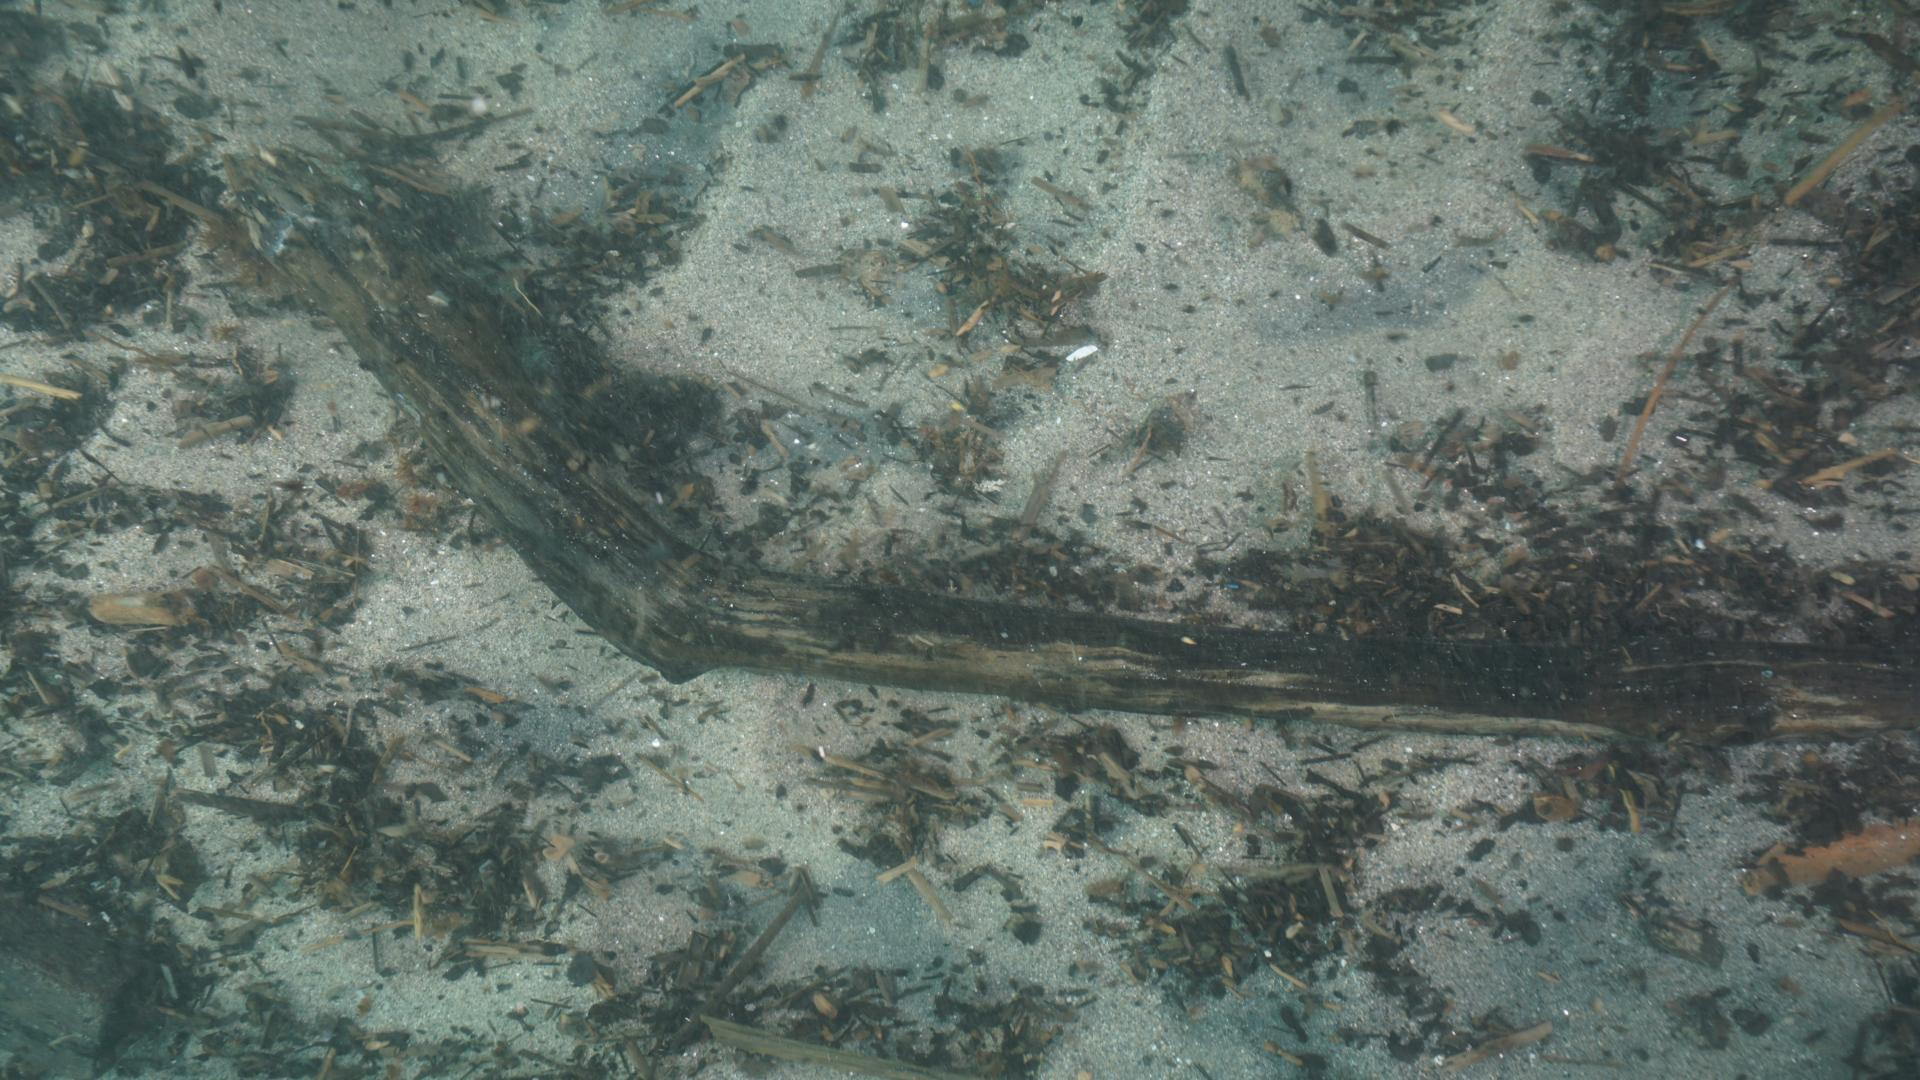wood: (218, 142, 1920, 752)
